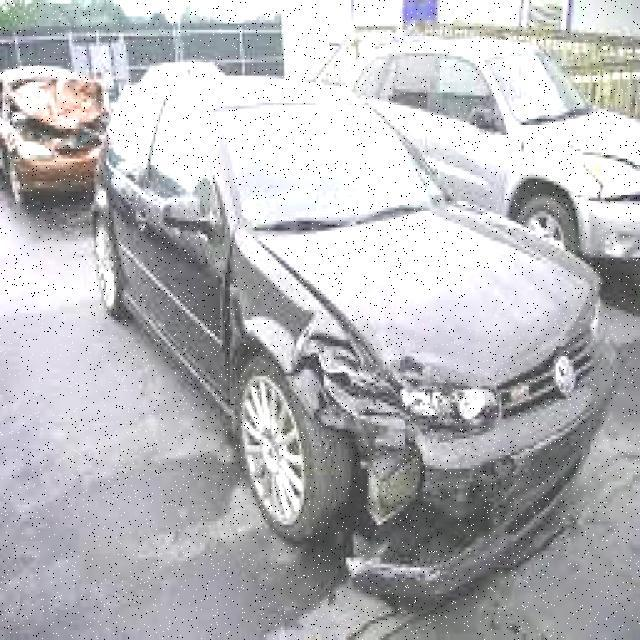car damage: (225, 239, 518, 603)
